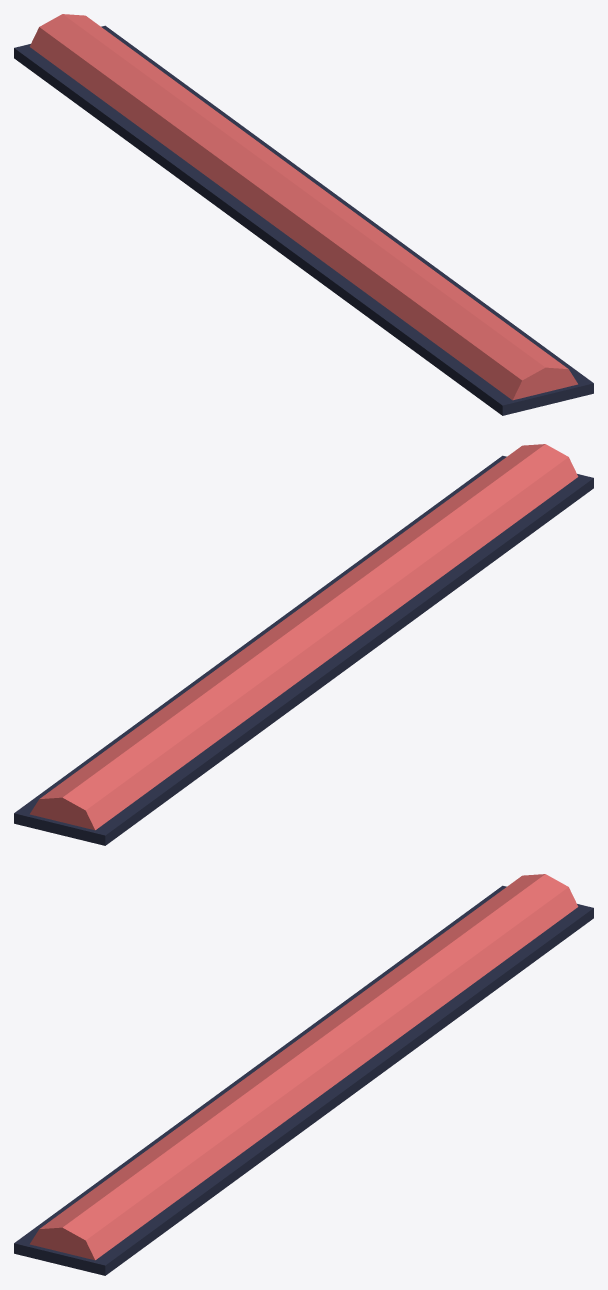
File: Button_Cable.fbx
3 renders of one model, top to bottom at view 1: azimuth 30°, elevation 25°; view 2: azimuth 150°, elevation 25°; view 3: azimuth 330°, elevation 25°, orthographic.
Parts seen in each view (by area): view 1: Button_Cable; view 2: Button_Cable; view 3: Button_Cable.
Boxes of the visible parts, x1,y1,x2,y2 form: Button_Cable: (14, 14, 593, 415); Button_Cable: (14, 444, 593, 845); Button_Cable: (14, 874, 593, 1275).
Bounding box in the file's own units: 71.43 × 26.28 × 662.
